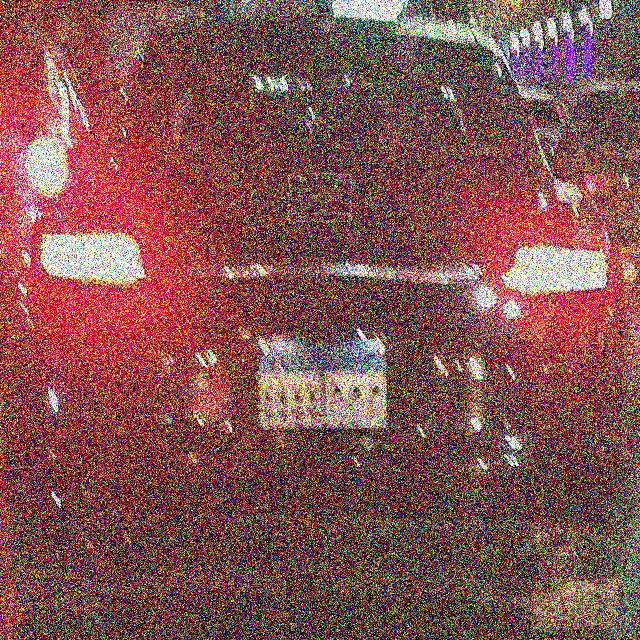License Plate: (253, 330, 392, 434)
